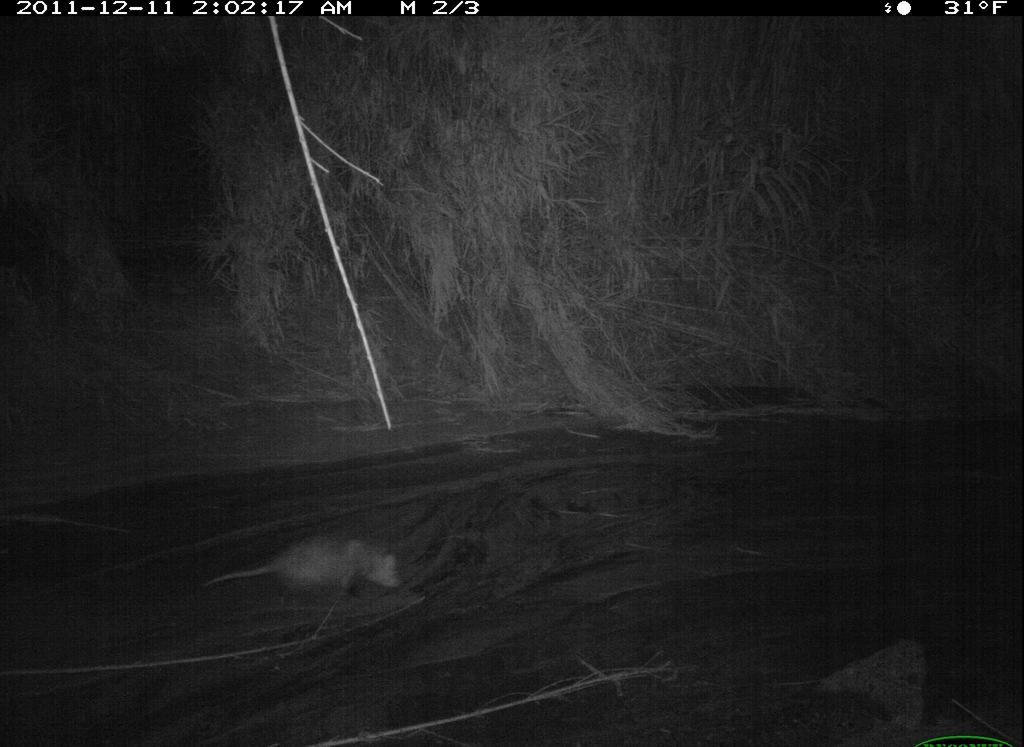opossum: (204, 519, 413, 609)
